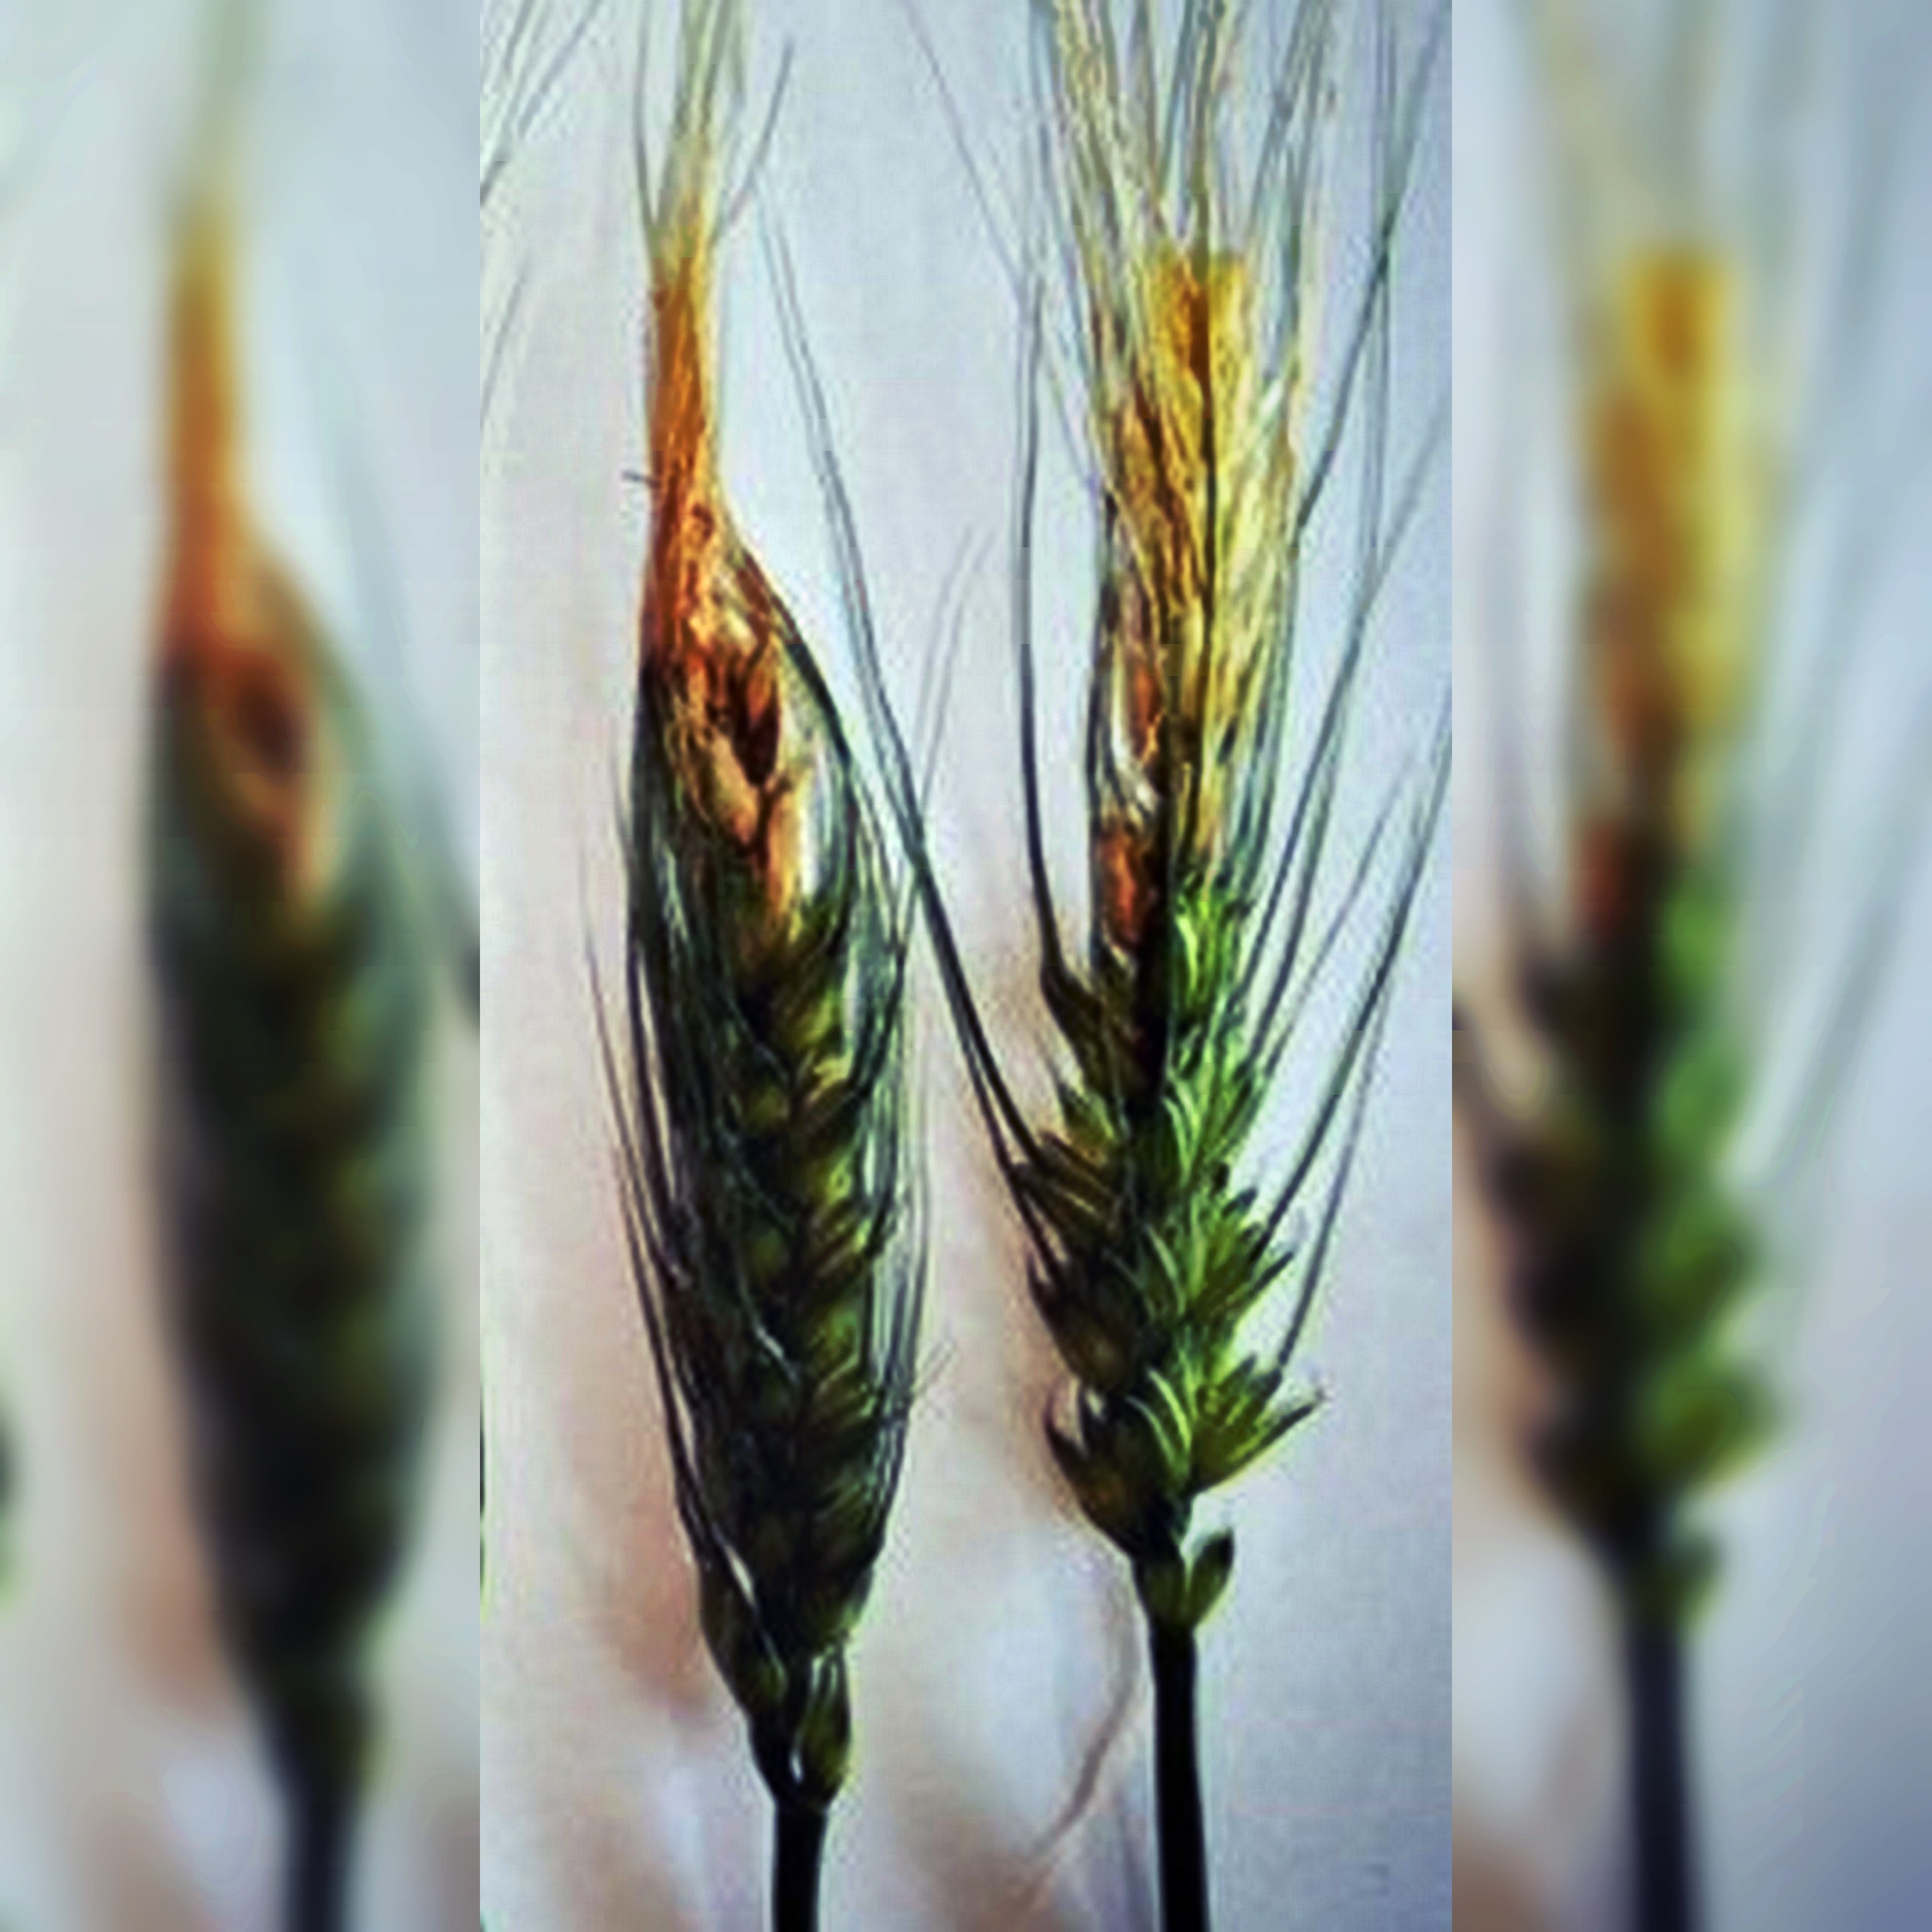Wheat scab: (575, 324, 1005, 1727), (1024, 184, 1428, 1637)
